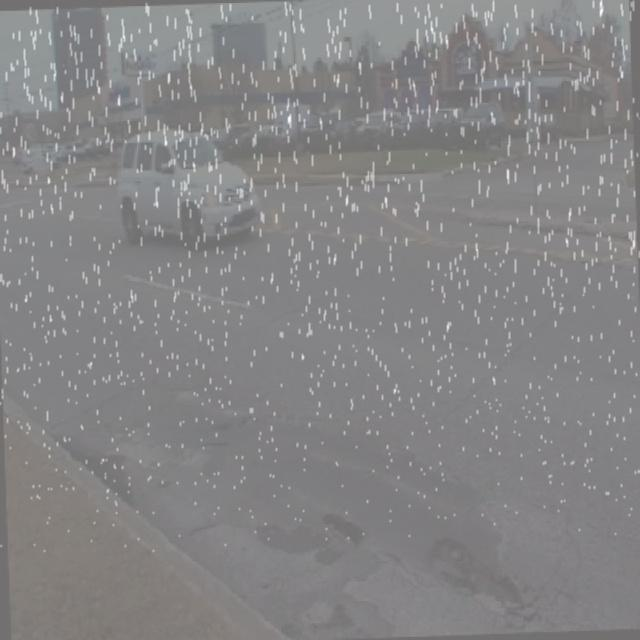Pothole: (57, 382, 192, 520), (404, 519, 534, 612), (292, 486, 379, 570), (294, 578, 340, 633)
